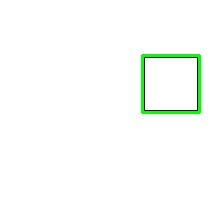line_segment: (142, 54, 201, 114)
